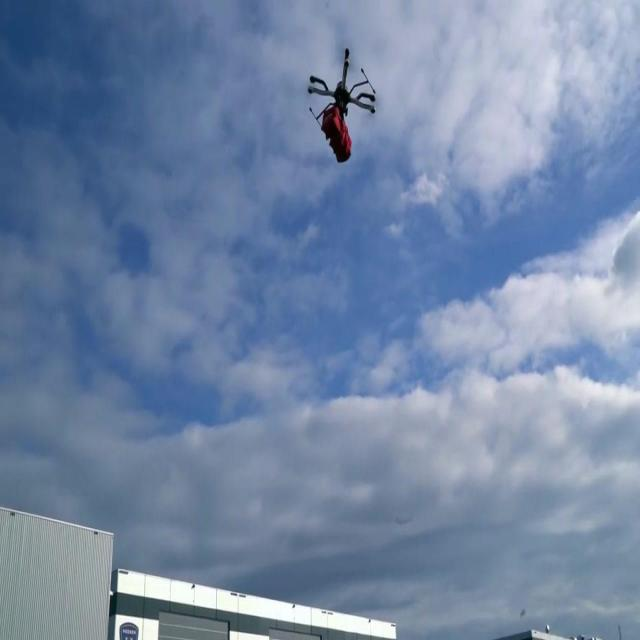UAV: (308, 48, 377, 134)
